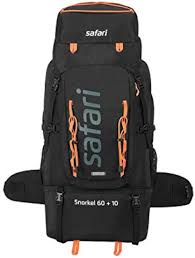backpack: (3, 1, 193, 255)
